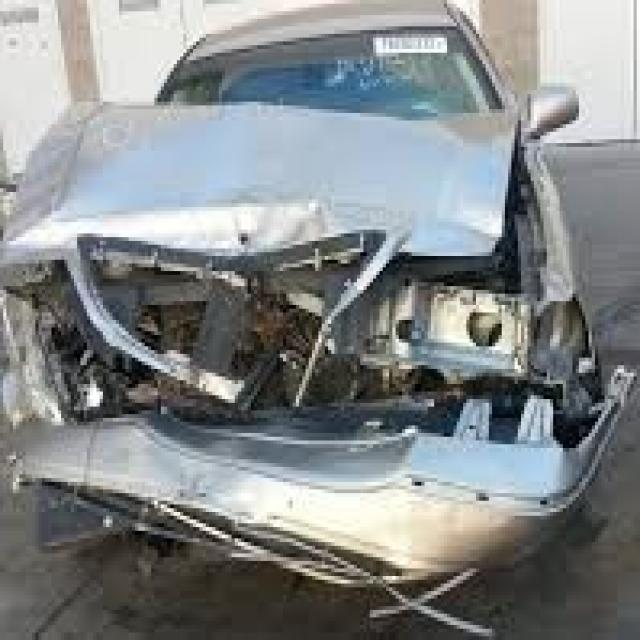moderate: (4, 134, 640, 552)
